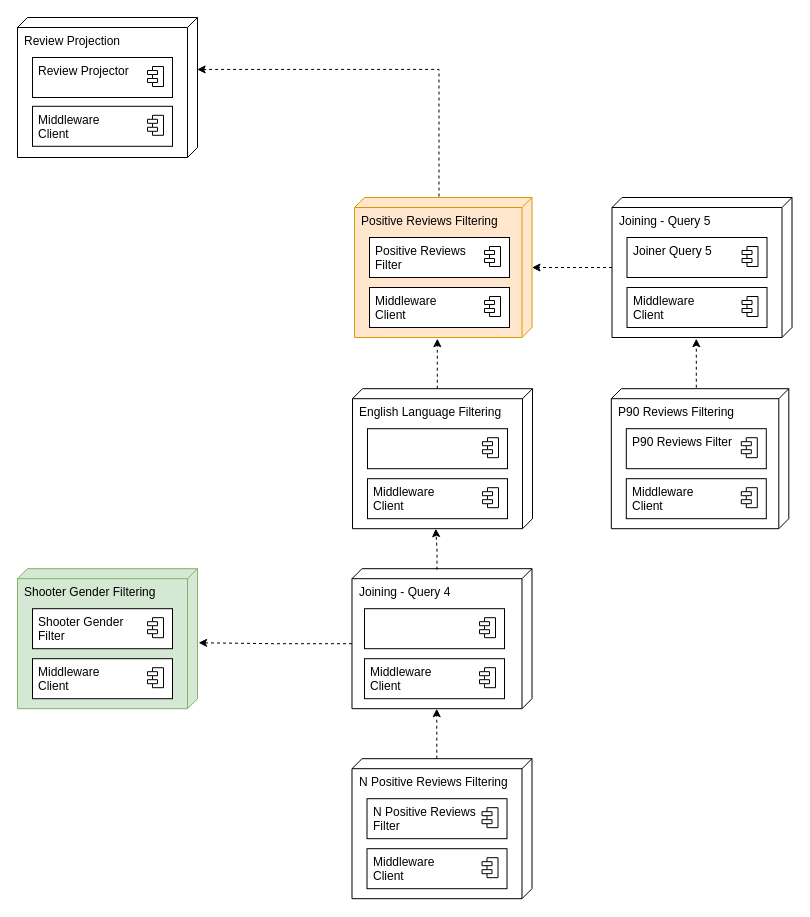
This 810x917 diagram has some shape labels left out. Here are the shapes that lost their labels. From the top down, the centre of each, then its label:
At (437,448): "English Language Filter".
At (434,628): "Joiner Query 4".
